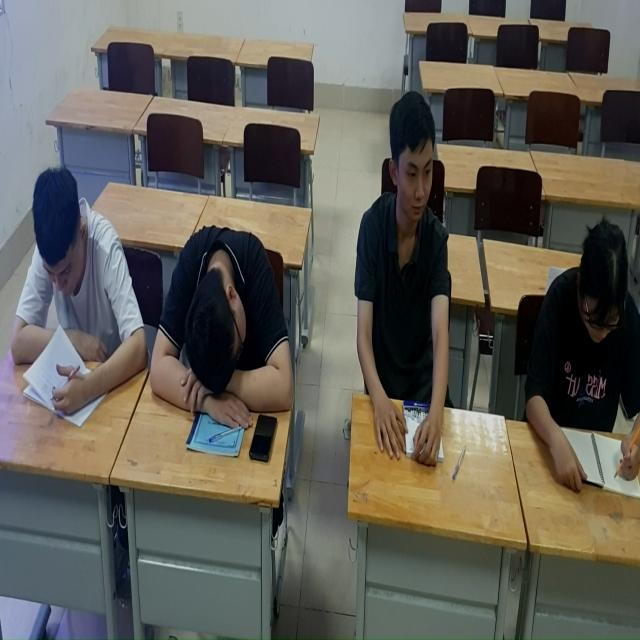read: (344, 86, 470, 459), (9, 155, 145, 422), (519, 215, 640, 499)
sleep: (153, 206, 302, 435)
